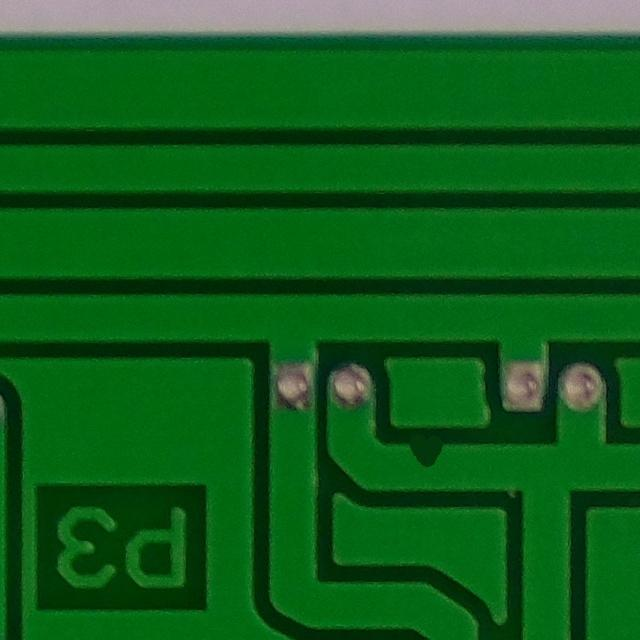mouse_bite: (390, 435, 464, 482)
